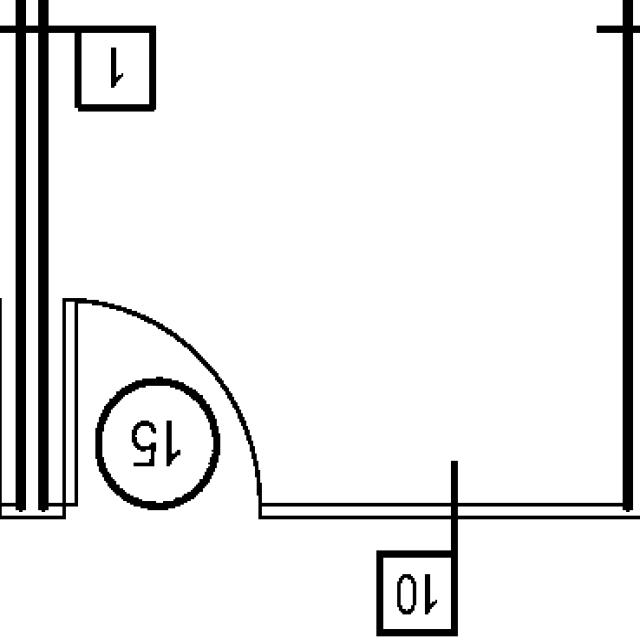Doors: (59, 295, 274, 524)
